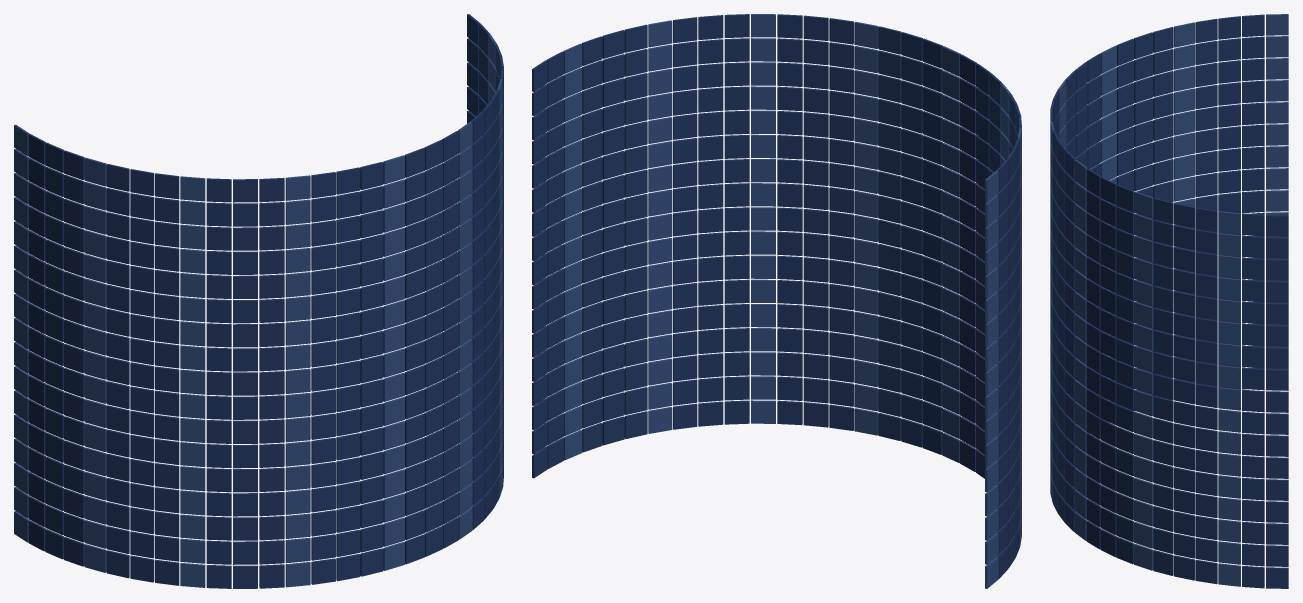
The model's file is dragon_trunk.body_solar_array.glb.
3 views of the same model, side by side, from view 1: azimuth 30°, elevation 25°; view 2: azimuth 150°, elevation 25°; view 3: azimuth 270°, elevation 25° (orthographic). The views are drawn at different scales.
Parts seen in each view (by area): view 1: dragon_trunk.body_solar_array.mesh_Indigo_solar_cells, dragon_trunk.body_solar_array.mesh_Blue_photovoltaic_cells; view 2: dragon_trunk.body_solar_array.mesh_Indigo_solar_cells, dragon_trunk.body_solar_array.mesh_Blue_photovoltaic_cells; view 3: dragon_trunk.body_solar_array.mesh_Indigo_solar_cells, dragon_trunk.body_solar_array.mesh_Blue_photovoltaic_cells.
Part boxes in pixels (<box>): dragon_trunk.body_solar_array.mesh_Indigo_solar_cells: <box>28,14,503,588</box>; dragon_trunk.body_solar_array.mesh_Blue_photovoltaic_cells: <box>14,34,502,587</box>; dragon_trunk.body_solar_array.mesh_Indigo_solar_cells: <box>532,14,1021,578</box>; dragon_trunk.body_solar_array.mesh_Blue_photovoltaic_cells: <box>563,14,1021,588</box>; dragon_trunk.body_solar_array.mesh_Indigo_solar_cells: <box>1050,14,1288,588</box>; dragon_trunk.body_solar_array.mesh_Blue_photovoltaic_cells: <box>1050,14,1288,586</box>.
Size of the model in its own units: 4 by 3.43 by 1.99.
